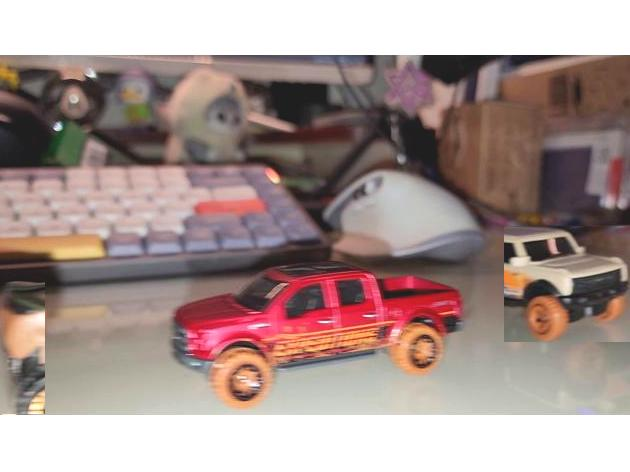toy-car: (171, 263, 465, 409), (504, 226, 630, 342), (0, 276, 45, 414)
